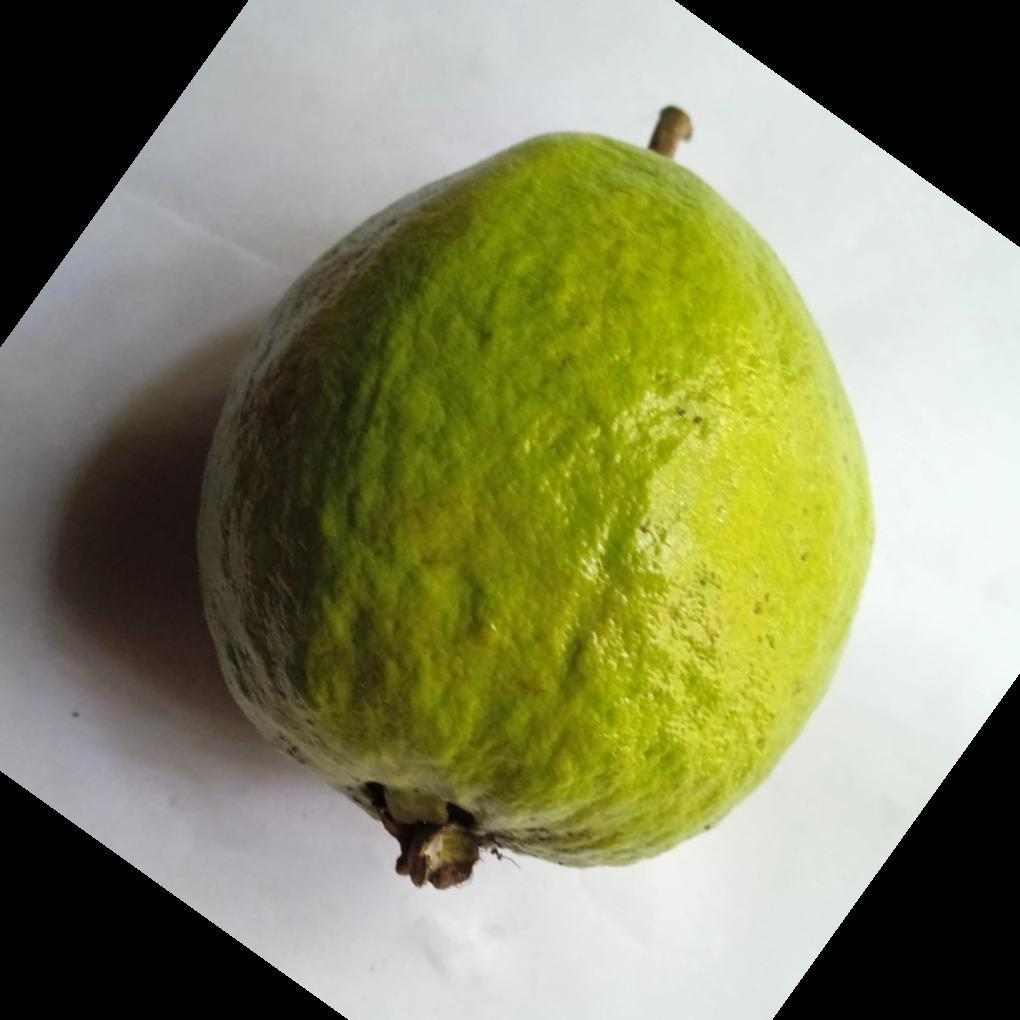FreshGuava: (193, 133, 876, 893)
